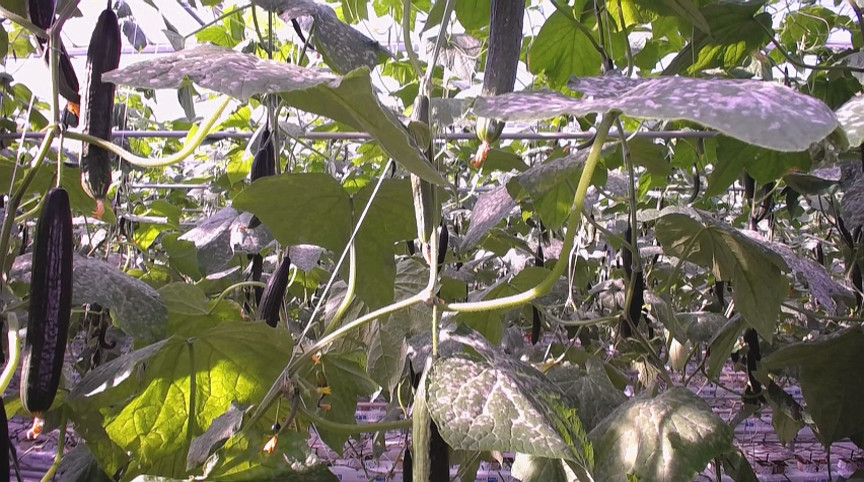cucumber: (21, 189, 73, 411), (475, 1, 529, 143), (82, 8, 121, 197), (413, 355, 449, 482), (407, 95, 434, 242), (257, 259, 292, 326)
